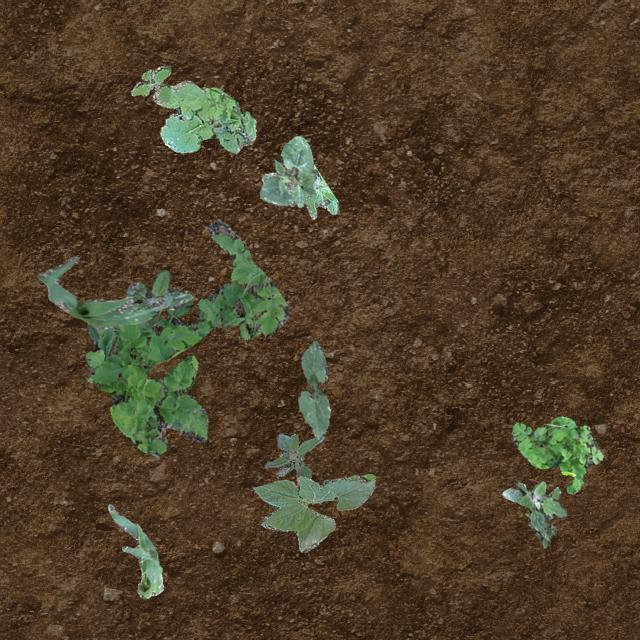crop: (36, 256, 170, 340), (252, 472, 374, 552), (106, 502, 162, 598), (258, 134, 318, 207), (296, 339, 330, 438)
weed: (84, 218, 288, 454), (152, 80, 256, 152), (511, 416, 602, 492), (502, 479, 566, 546), (126, 270, 192, 326), (260, 172, 338, 218), (264, 432, 324, 478), (130, 64, 170, 102)
